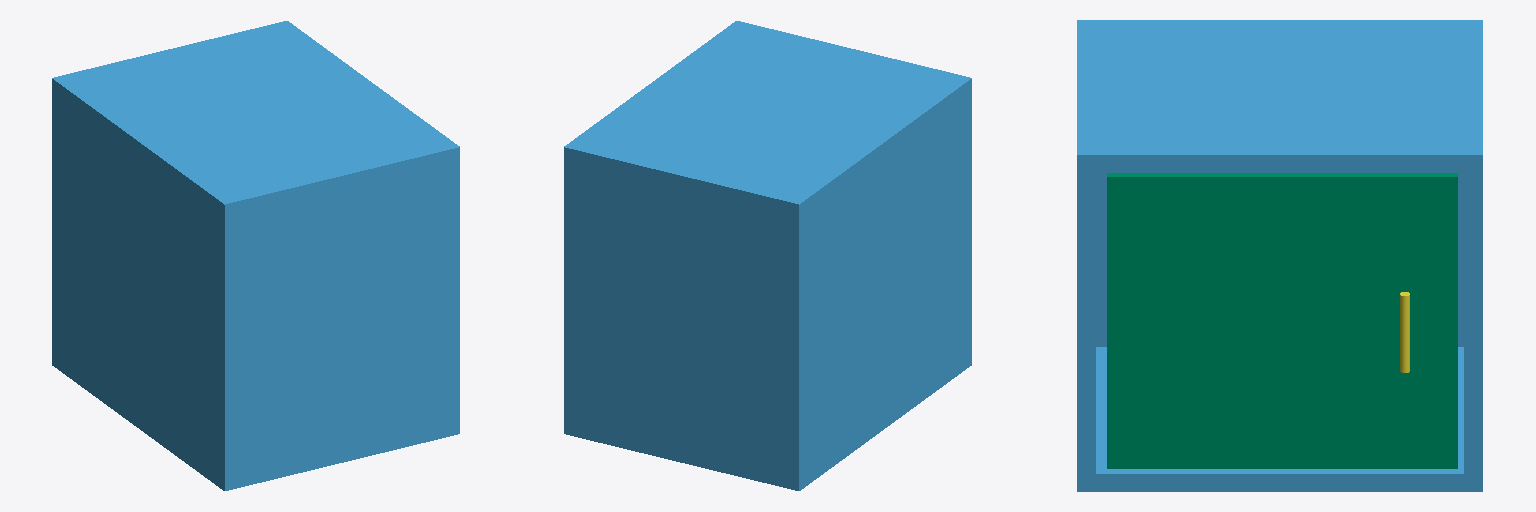
robot.urdf — my_cabinet:
<?xml version="1.0" ?>
<robot name="my_cabinet">
	<link name="world"/>
	<joint name="virtual_joint" type="fixed">
		<parent link="world"/>
		<child link="base_cabinet_link"/>
		<origin xyz="0.0 0.0 0.0" rpy="0.0 0.0 0.0"/>
	</joint>
	<link name="base_cabinet_link">
		<visual>
			<origin xyz="0.0 -0.0025 -0.16544811362240916" rpy="0.0 0.0 0.0"/>
			<geometry>
				<box size="0.3 0.3811897765528644 0.018"/>
			</geometry>
		</visual>
		<collision name="base_cabinet_link_collision_0">
			<origin xyz="0.0 -0.0025 -0.16544811362240916" rpy="0.0 0.0 0.0"/>
			<geometry>
				<box size="0.3 0.3811897765528644 0.018"/>
			</geometry>
		</collision>
		<visual>
			<origin xyz="0.0 0.17909488827643222 0.0" rpy="0.0 0.0 0.0"/>
			<geometry>
				<box size="0.3 0.018 0.34889622724481834"/>
			</geometry>
		</visual>
		<collision name="base_cabinet_link_collision_1">
			<origin xyz="0.0 0.17909488827643222 0.0" rpy="0.0 0.0 0.0"/>
			<geometry>
				<box size="0.3 0.018 0.34889622724481834"/>
			</geometry>
		</collision>
		<visual>
			<origin xyz="0.0 -0.18409488827643222 0.0" rpy="0.0 0.0 0.0"/>
			<geometry>
				<box size="0.3 0.018 0.34889622724481834"/>
			</geometry>
		</visual>
		<collision name="base_cabinet_link_collision_2">
			<origin xyz="0.0 -0.18409488827643222 0.0" rpy="0.0 0.0 0.0"/>
			<geometry>
				<box size="0.3 0.018 0.34889622724481834"/>
			</geometry>
		</collision>
		<visual>
			<origin xyz="0.0 -0.0025 0.16544811362240916" rpy="0.0 0.0 0.0"/>
			<geometry>
				<box size="0.3 0.3811897765528644 0.018"/>
			</geometry>
		</visual>
		<collision name="base_cabinet_link_collision_3">
			<origin xyz="0.0 -0.0025 0.16544811362240916" rpy="0.0 0.0 0.0"/>
			<geometry>
				<box size="0.3 0.3811897765528644 0.018"/>
			</geometry>
		</collision>
		<visual>
			<origin xyz="-0.141 -0.0025 0.0" rpy="0.0 0.0 0.0"/>
			<geometry>
				<box size="0.018 0.3811897765528644 0.34889622724481834"/>
			</geometry>
		</visual>
		<collision name="base_cabinet_link_collision_4">
			<origin xyz="-0.141 -0.0025 0.0" rpy="0.0 0.0 0.0"/>
			<geometry>
				<box size="0.018 0.3811897765528644 0.34889622724481834"/>
			</geometry>
		</collision>
		<inertial>
			<mass value="0.200000"/>
			<inertia ixx="0.004451" ixy="0.0" ixz="0.0" iyy="0.003529" iyz="0.0" izz="0.003922"/>
		</inertial>
	</link>
	<link name="door_link">
		<visual>
			<origin xyz="0.0 -0.1650948882764322 0.0"/>
			<geometry>
				<box size="0.018 0.3301897765528644 0.3028962272448183"/>
			</geometry>
		</visual>
		<collision name="door_link_collision">
			<origin xyz="0.0 -0.1650948882764322 0.0"/>
			<geometry>
				<box size="0.018 0.3301897765528644 0.3028962272448183"/>
			</geometry>
		</collision>
		<inertial>
			<mass value="0.200000"/>
			<inertia ixx="0.003346" ixy="0.0" ixz="0.0" iyy="0.001535" iyz="0.0" izz="0.001822"/>
		</inertial>
	</link>
	<joint name="door_joint" type="revolute">
		<origin xyz="0.141 -0.1650948882764322 0.0" rpy="0.000000 -0.000000 3.141593"/>
		<axis xyz="0 0 1"/>
		<parent link="base_cabinet_link"/>
		<child link="door_link"/>
		<limit effort="50" lower="-1.658062789394613" upper="0" velocity="10"/>
		<dynamics friction="3.5" damping="3.5"/>
	</joint>
	<link name="handle_link">
		<visual>
			<origin xyz="0.0 0.0 0.0" rpy="0.0 0.0 0.0"/>
			<geometry>
				<cylinder length="0.08" radius="0.005"/>
			</geometry>
		</visual>
		<collision name="handle_link_collision_0">
			<origin xyz="0.0 0.0 0.0" rpy="0.0 0.0 0.0"/>
			<geometry>
				<cylinder length="0.08" radius="0.005"/>
			</geometry>
		</collision>
		<visual>
			<origin xyz="-0.01 0.0 0.02" rpy="0.0 1.5707963267948966 0.0"/>
			<geometry>
				<cylinder length="0.02" radius="0.003"/>
			</geometry>
		</visual>
		<collision name="handle_link_collision_1">
			<origin xyz="-0.01 0.0 0.02" rpy="0.0 1.5707963267948966 0.0"/>
			<geometry>
				<cylinder length="0.01" radius="0.003"/>
			</geometry>
		</collision>
		<visual>
			<origin xyz="-0.01 0.0 -0.02" rpy="0.0 1.5707963267948966 0.0"/>
			<geometry>
				<cylinder length="0.02" radius="0.003"/>
			</geometry>
		</visual>
		<collision name="handle_link_collision_2">
			<origin xyz="-0.01 0.0 -0.02" rpy="0.0 1.5707963267948966 0.0"/>
			<geometry>
				<cylinder length="0.02" radius="0.003"/>
			</geometry>
		</collision>
		<inertial>
			<mass value="0.050000"/>
			<inertia ixx="0.000027" ixy="0.0" ixz="0.0" iyy="0.000029" iyz="0.0" izz="0.000003"/>
		</inertial>
	</link>
	<joint name="handle_joint" type="fixed">
		<origin xyz="-0.028999999999999998 -0.2801897765528644 0.0" rpy="0.000000 -0.000000 3.141593"/>
		<parent link="door_link"/>
		<child link="handle_link"/>
	</joint>
	<gazebo reference="base_cabinet_link">
		<sensor name="main_sensor" type="contact">
			<selfCollide>true</selfCollide>
			<alwaysOn>true</alwaysOn>
			<updateRate>5.0</updateRate>
			<material>Gazebo/Red</material>
			<contact>
				<collision>base_cabinet_link_collision_0_collision</collision>
				<collision>base_cabinet_link_collision_1_collision</collision>
				<collision>base_cabinet_link_collision_2_collision</collision>
				<collision>base_cabinet_link_collision_3_collision</collision>
				<collision>base_cabinet_link_collision_4_collision</collision>
			</contact>
			<plugin name="gazebo_ros_bumper_controller" filename="libgazebo_ros_bumper.so">
				<bumperTopicName>/contact</bumperTopicName>
				<frameName>world</frameName>
			</plugin>
		</sensor>
	</gazebo>
	<gazebo reference="door_link">
		<sensor name="main_sensor" type="contact">
			<selfCollide>true</selfCollide>
			<alwaysOn>true</alwaysOn>
			<updateRate>5.0</updateRate>
			<material>Gazebo/Red</material>
			<contact>
				<collision>door_link_collision_collision</collision>
			</contact>
			<plugin name="gazebo_ros_bumper_controller" filename="libgazebo_ros_bumper.so">
				<bumperTopicName>/contact_door</bumperTopicName>
				<frameName>contact_door</frameName>
			</plugin>
		</sensor>
	</gazebo>
	<gazebo reference="door_link">
		<mu>3.0</mu>
		<mu2>3.0</mu2>
		<kp>10000000</kp>
		<kd>100</kd>
	</gazebo>
</robot>

--- What the picture shows (computed from the rendered views, not written in the file) ---
3 views of the same robot in one strip: view 1: azimuth 30°, elevation 25°; view 2: azimuth 150°, elevation 25°; view 3: azimuth 270°, elevation 25° (orthographic).
Robot: my_cabinet — 4 links, 3 joints (1 revolute, 2 fixed); root link world; default pose: every joint at zero.
Links seen in each view (by area): view 1: base_cabinet_link; view 2: base_cabinet_link; view 3: door_link, base_cabinet_link, handle_link.
Boxes of the visible links, x1=… form: base_cabinet_link: x1=52, y1=21, x2=459, y2=490; base_cabinet_link: x1=564, y1=21, x2=971, y2=490; door_link: x1=1107, y1=173, x2=1457, y2=468; base_cabinet_link: x1=1077, y1=20, x2=1482, y2=491; handle_link: x1=1400, y1=292, x2=1409, y2=372.
Size in the robot's own frame: 0.325 by 0.3812 by 0.3489 metres.
Geometry: primitives only (box / cylinder / sphere), no mesh files.
